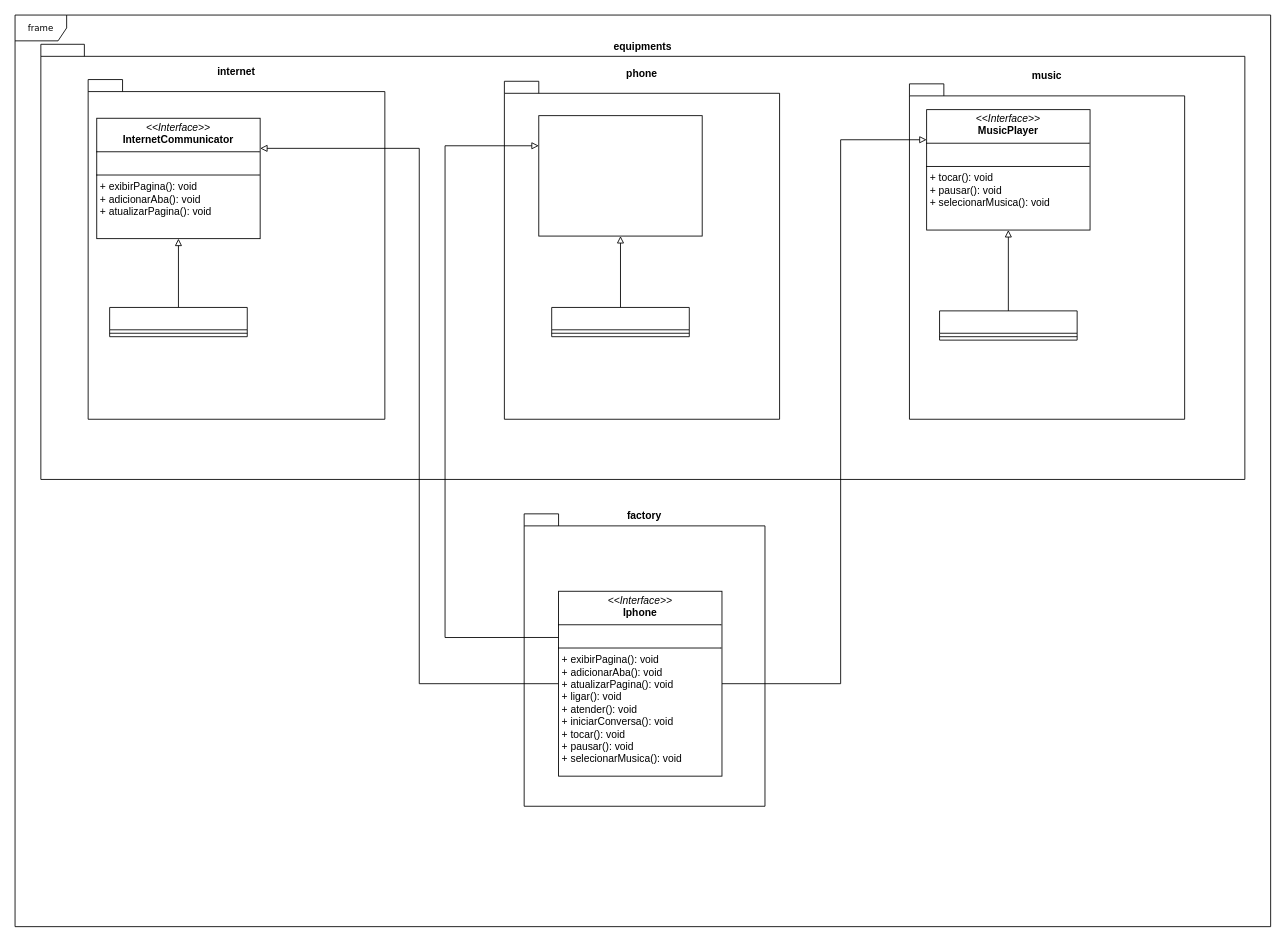
Some shapes in this 1286 by 942 pixel diagram are drawn without their labels. Each missing label, with the centre of its shape:
"<<Interface>> Phone + ligar(): void + atender(): void + iniciarConversa(): void" goes at [620,175].
"browser" goes at [178,322].
"ipod" goes at [1008,325].
"motoQ" goes at [620,322].
